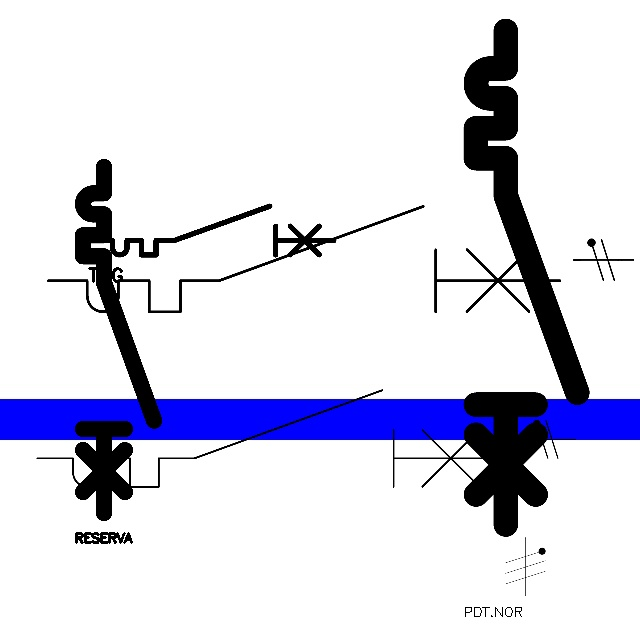interruptor_termomagnetico: (35, 193, 573, 325), (463, 18, 590, 537), (25, 378, 520, 499), (74, 158, 163, 522), (88, 200, 340, 261)
